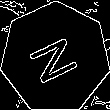N_NE: (25, 29, 86, 87)
